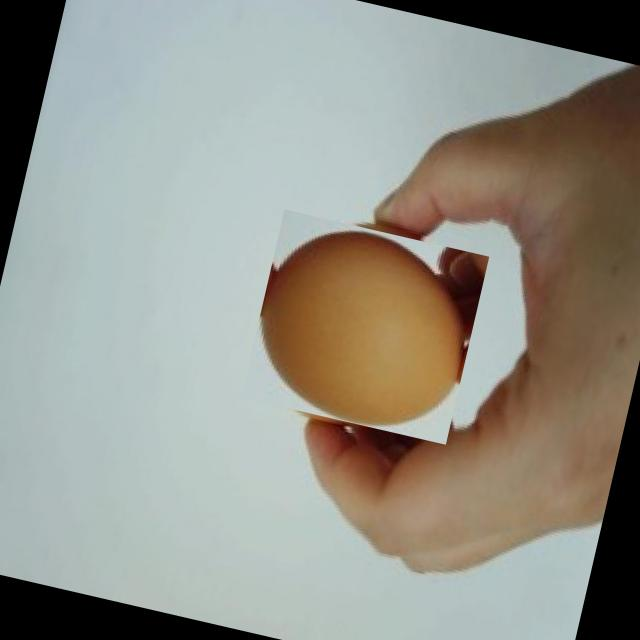eggs: (244, 206, 486, 448)
